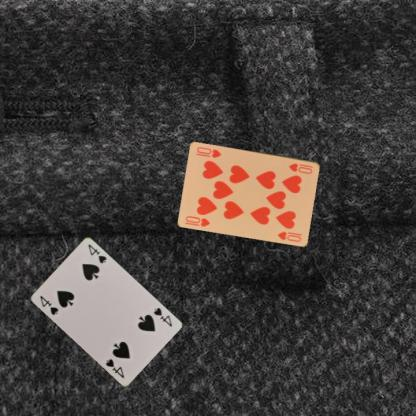10h: (183, 213, 212, 228), (287, 161, 314, 175)
4s: (37, 293, 59, 317), (151, 305, 173, 328)
